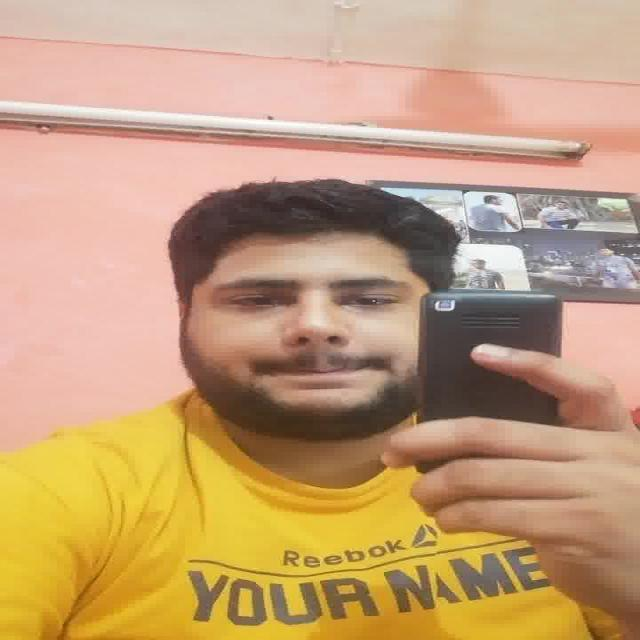Phone: (414, 290, 566, 420)
